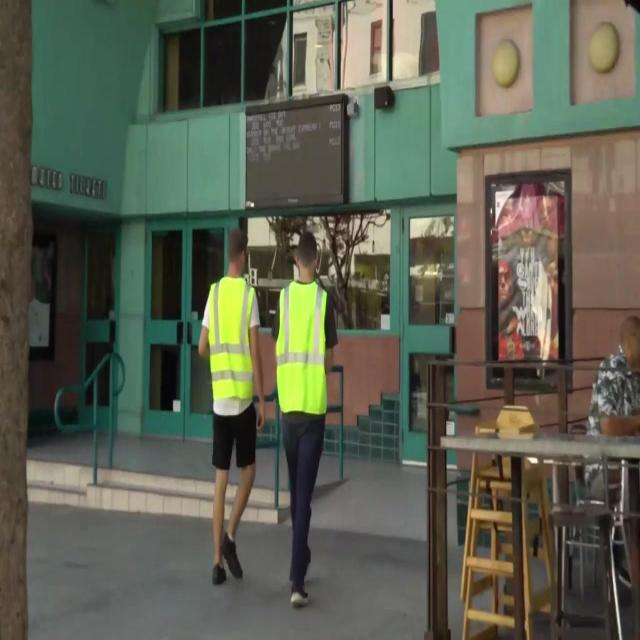Vest: (274, 281, 328, 417), (209, 276, 253, 402)
